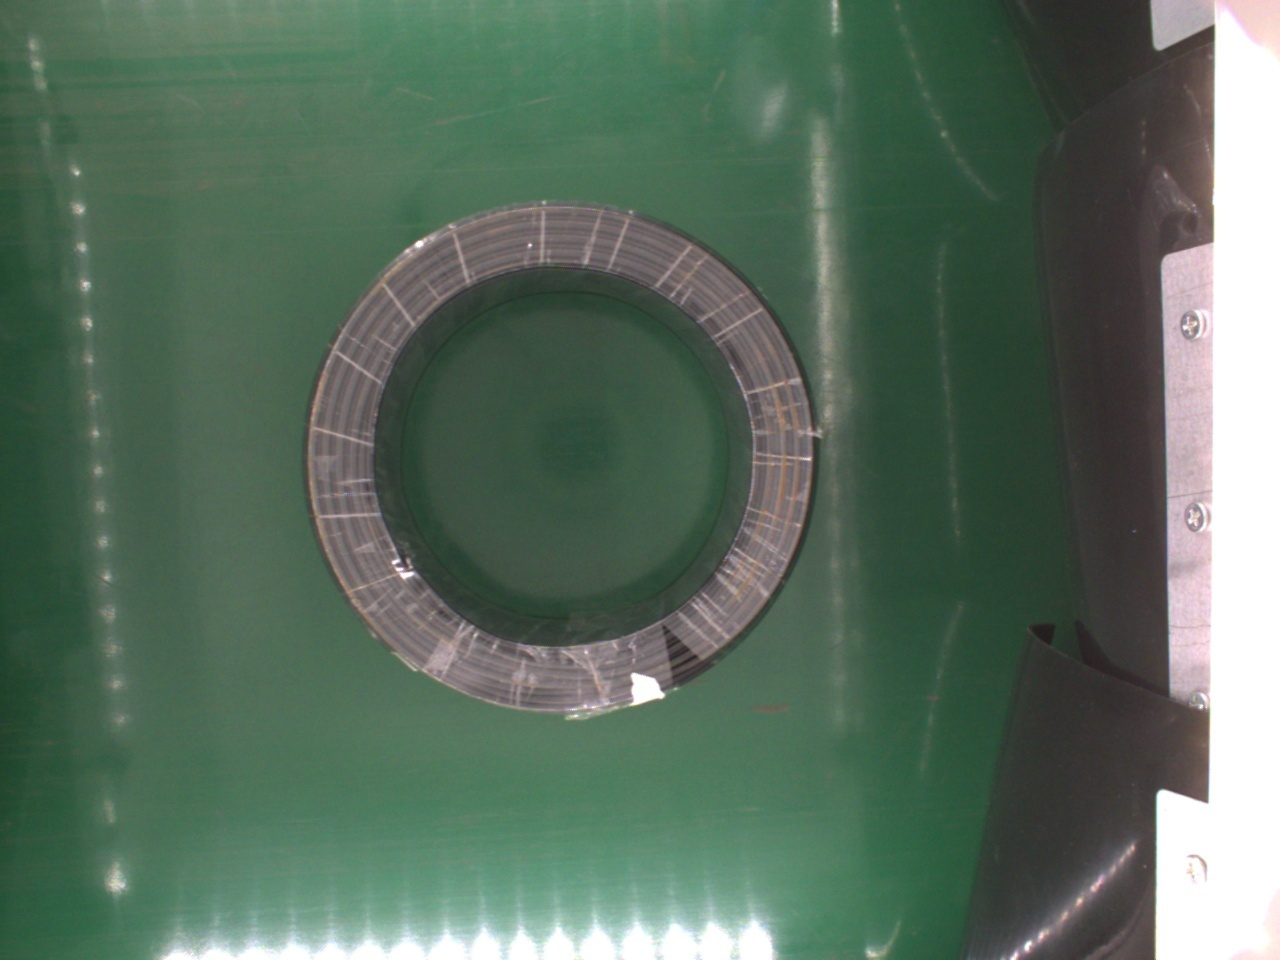black: (308, 203, 815, 708)
